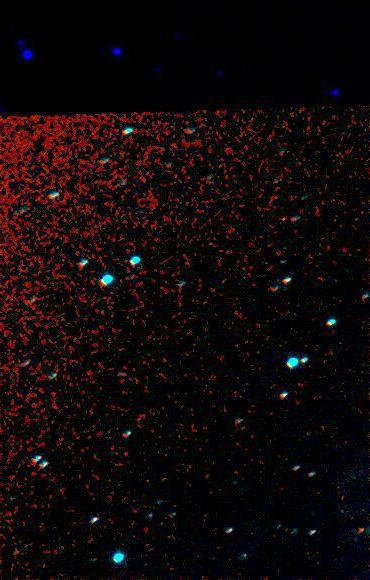star: (346, 516, 370, 546)
